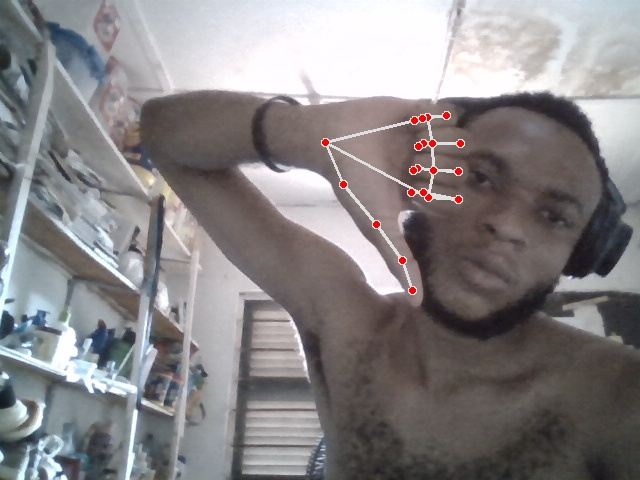thumbsdown: (320, 96, 474, 309)
